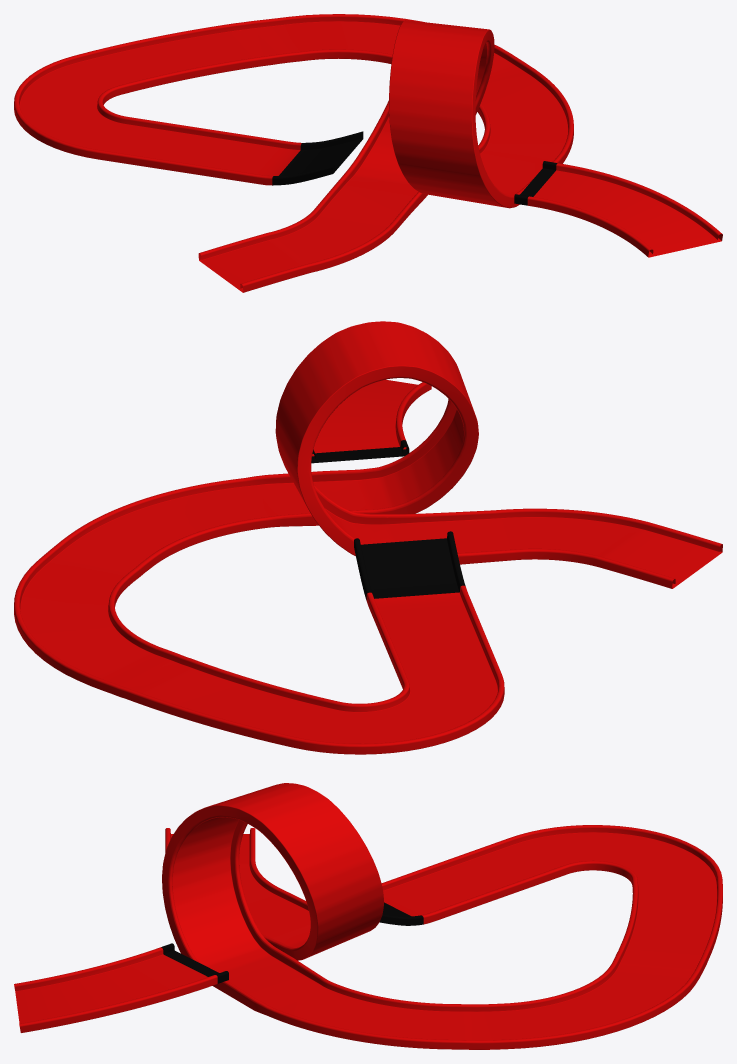
Rendered from LoopTrack_FBX.fbx.
3 renders of one model, top to bottom at view 1: azimuth 30°, elevation 25°; view 2: azimuth 150°, elevation 25°; view 3: azimuth 270°, elevation 25°, orthographic. The views are drawn at different scales.
Parts seen in each view (by area): view 1: track_part4_2; view 2: track_part4_2; view 3: track_part4_2.
Boxes of the visible parts, x1,y1,x2,y2 form: track_part4_2: [14, 14, 722, 292]; track_part4_2: [14, 321, 722, 754]; track_part4_2: [14, 783, 722, 1049].
Size of the model in its own units: 4515 by 6226 by 1594.
